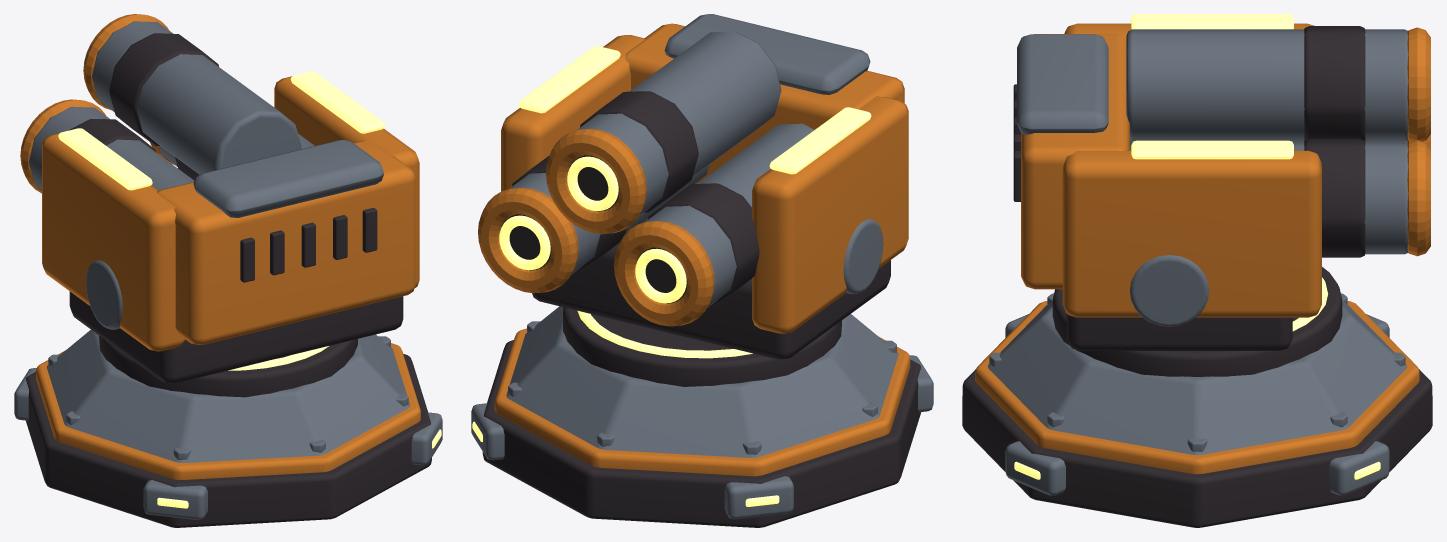
The model's file is burst.glb.
3 renders of one model, left to right at view 1: azimuth 30°, elevation 25°; view 2: azimuth 150°, elevation 25°; view 3: azimuth 270°, elevation 25°, orthographic. The views are drawn at different scales.
Visible parts, largest first — view 1: Reactor pack, Sloped armor, Hinged side armor, Anchored chassis, Blast tube.002, Elevation yoke, Reactor lid, Trim, Turret bearing, Hinged side armor.001, Tube sleeve.002, Blast tube (+15 smaller); view 2: Sloped armor, Hinged side armor, Anchored chassis, Blast tube.002, Elevation yoke, Trim, Turret bearing, Reactor lid, Hinged side armor.001, Reactor pack, Muzzle gasket, Muzzle gasket.002 (+19 smaller); view 3: Hinged side armor.001, Sloped armor, Blast tube.002, Anchored chassis, Trim, Reactor pack, Reactor lid, Elevation yoke, Turret bearing, Tube sleeve.002, Tube sleeve.001, Blast tube.001 (+8 smaller).
Part boxes in pixels (x1,y1,x2,y2): Reactor pack: [157, 140, 415, 344]; Sloped armor: [47, 330, 409, 462]; Hinged side armor: [42, 133, 185, 351]; Anchored chassis: [26, 354, 431, 527]; Blast tube.002: [91, 21, 301, 174]; Elevation yoke: [69, 291, 403, 383]; Reactor lid: [193, 140, 383, 217]; Trim: [36, 343, 420, 479]; Turret bearing: [99, 335, 357, 397]; Hinged side armor.001: [274, 76, 419, 287]; Tube sleeve.002: [109, 33, 218, 145]; Blast tube: [28, 106, 194, 190]; Sloped armor: [506, 306, 898, 457]; Hinged side armor: [752, 96, 908, 333]; Anchored chassis: [482, 340, 921, 527]; Blast tube.002: [577, 31, 781, 215]; Elevation yoke: [532, 219, 890, 359]; Trim: [494, 328, 910, 476]; Turret bearing: [563, 307, 841, 386]; Reactor lid: [664, 14, 870, 94]; Hinged side armor.001: [501, 35, 644, 191]; Reactor pack: [625, 23, 904, 183]; Muzzle gasket: [614, 221, 714, 326]; Muzzle gasket.002: [546, 128, 646, 234]; Hinged side armor.001: [1062, 150, 1321, 317]; Sloped armor: [988, 301, 1406, 454]; Blast tube.002: [1126, 29, 1408, 141]; Anchored chassis: [962, 369, 1432, 527]; Trim: [975, 301, 1419, 474]; Reactor pack: [1021, 34, 1129, 289]; Reactor lid: [1017, 34, 1108, 134]; Elevation yoke: [1066, 313, 1292, 350]; Turret bearing: [1052, 267, 1342, 376]; Tube sleeve.002: [1304, 26, 1365, 141]; Tube sleeve.001: [1304, 138, 1365, 257]; Blast tube.001: [1130, 142, 1408, 254].
Bounding box in the file's own units: 1.85 × 1.73 × 1.85.
